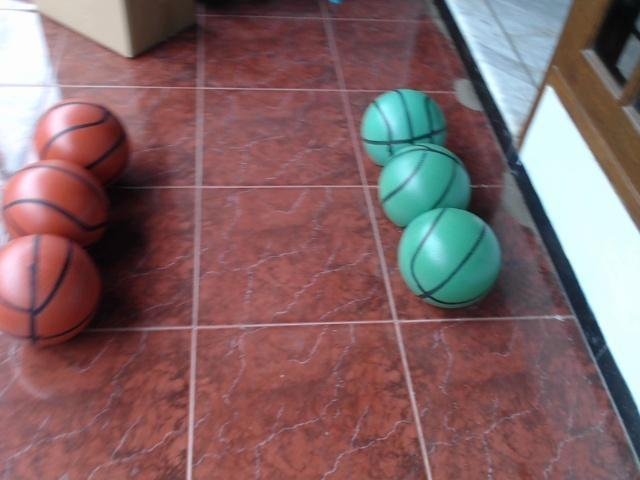Sports-Ball: (393, 208, 506, 314), (0, 236, 109, 339), (2, 161, 114, 251), (32, 99, 128, 193), (367, 142, 475, 221), (352, 87, 452, 160)
